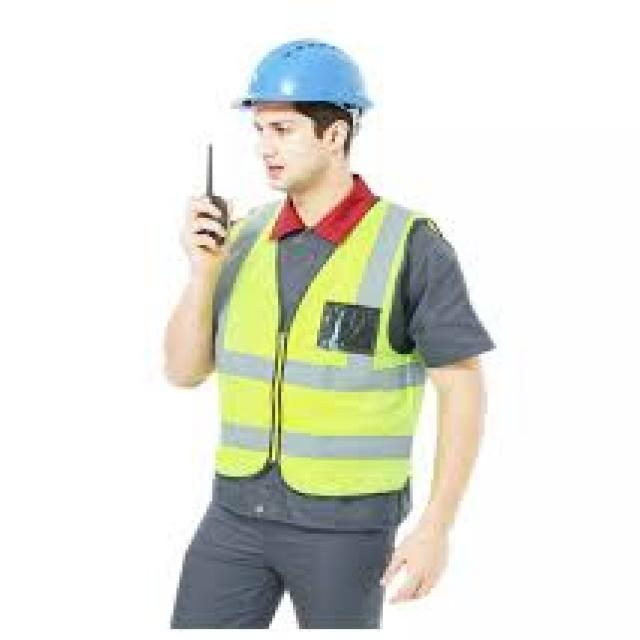Reflective-Jacket: (197, 196, 437, 501)
Safety-Helmet: (227, 33, 383, 128)
